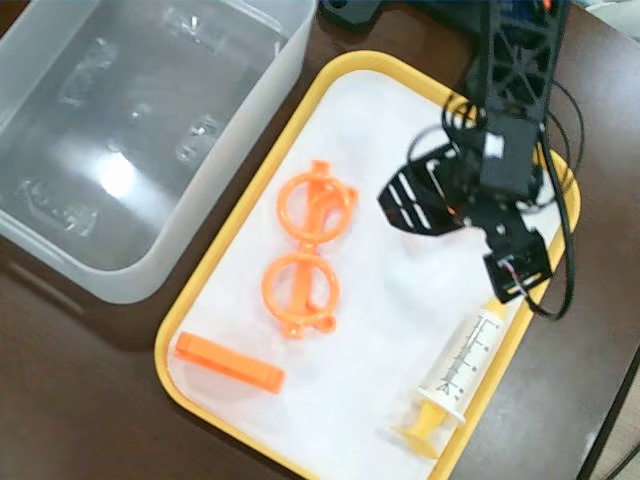syringe: (393, 285, 515, 447)
